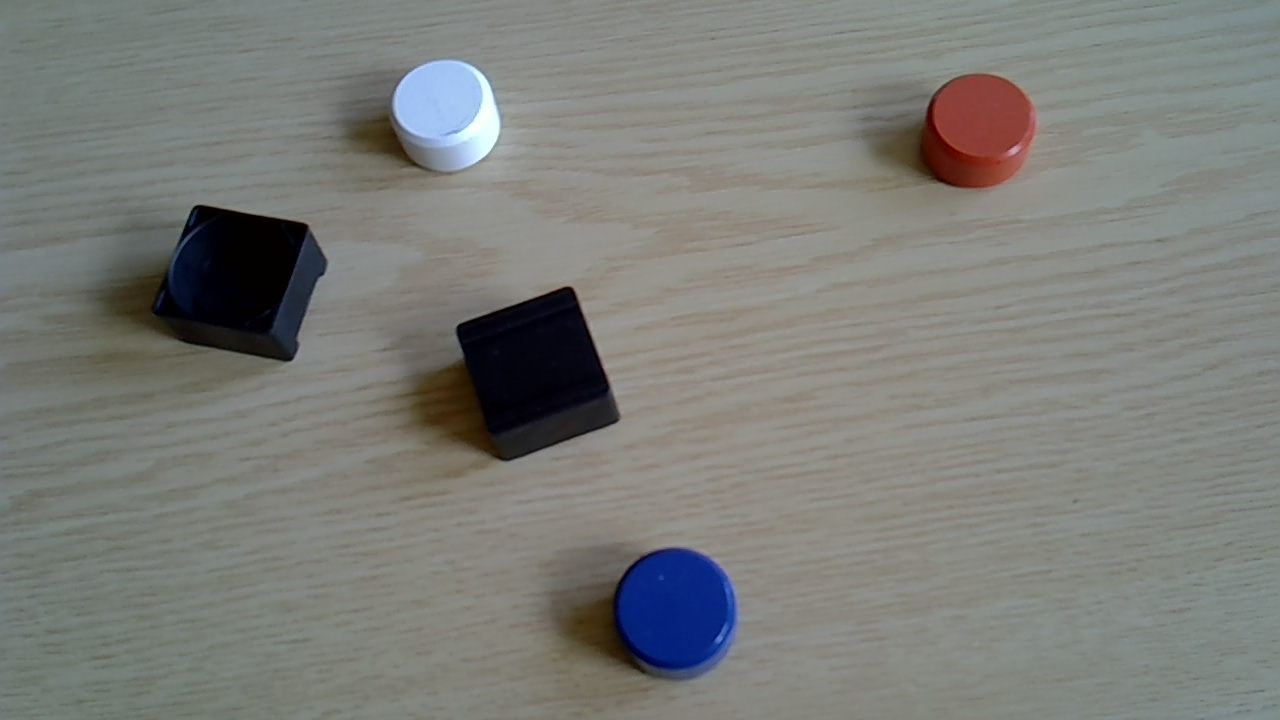Behaelter: (455, 286, 626, 465), (151, 204, 329, 361)
WerkStueck: (611, 546, 739, 681), (918, 71, 1038, 191), (387, 58, 501, 176)
